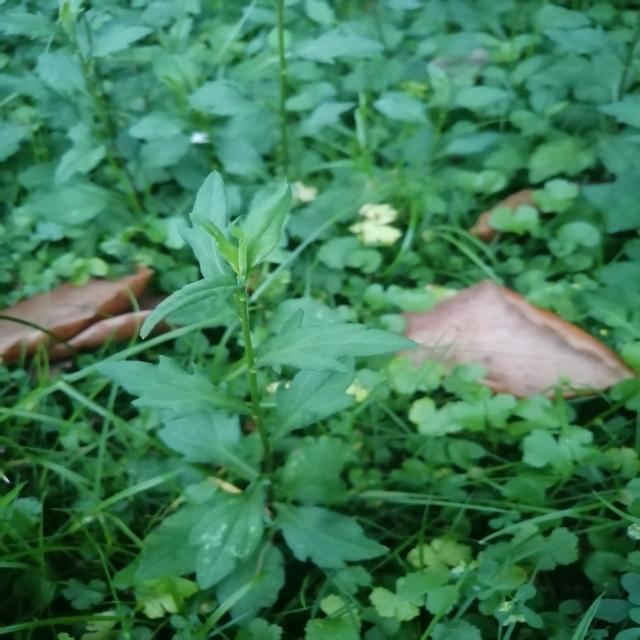Indian aster: (106, 166, 401, 574)
